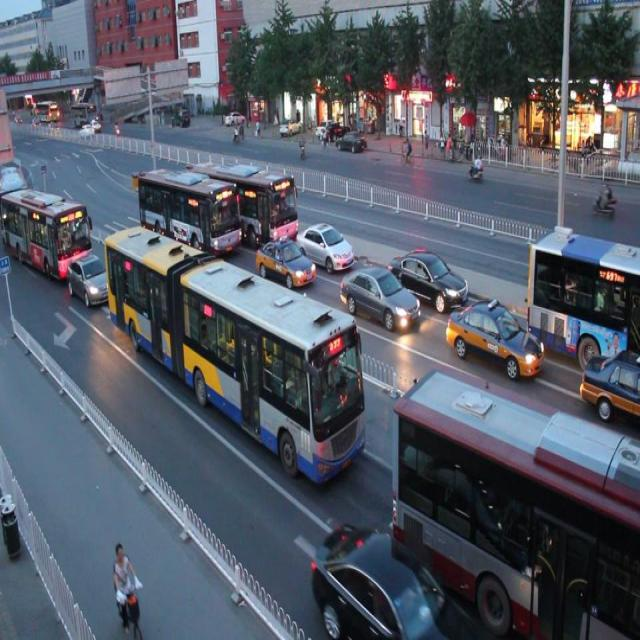car: (310, 519, 470, 640), (446, 294, 544, 382), (337, 258, 416, 331), (390, 243, 468, 309), (579, 344, 640, 418), (253, 230, 314, 289), (294, 214, 352, 273), (66, 250, 117, 307)
van: (102, 218, 366, 482), (394, 365, 640, 640), (526, 222, 640, 362), (136, 160, 240, 262), (191, 153, 298, 248), (1, 182, 90, 272)
